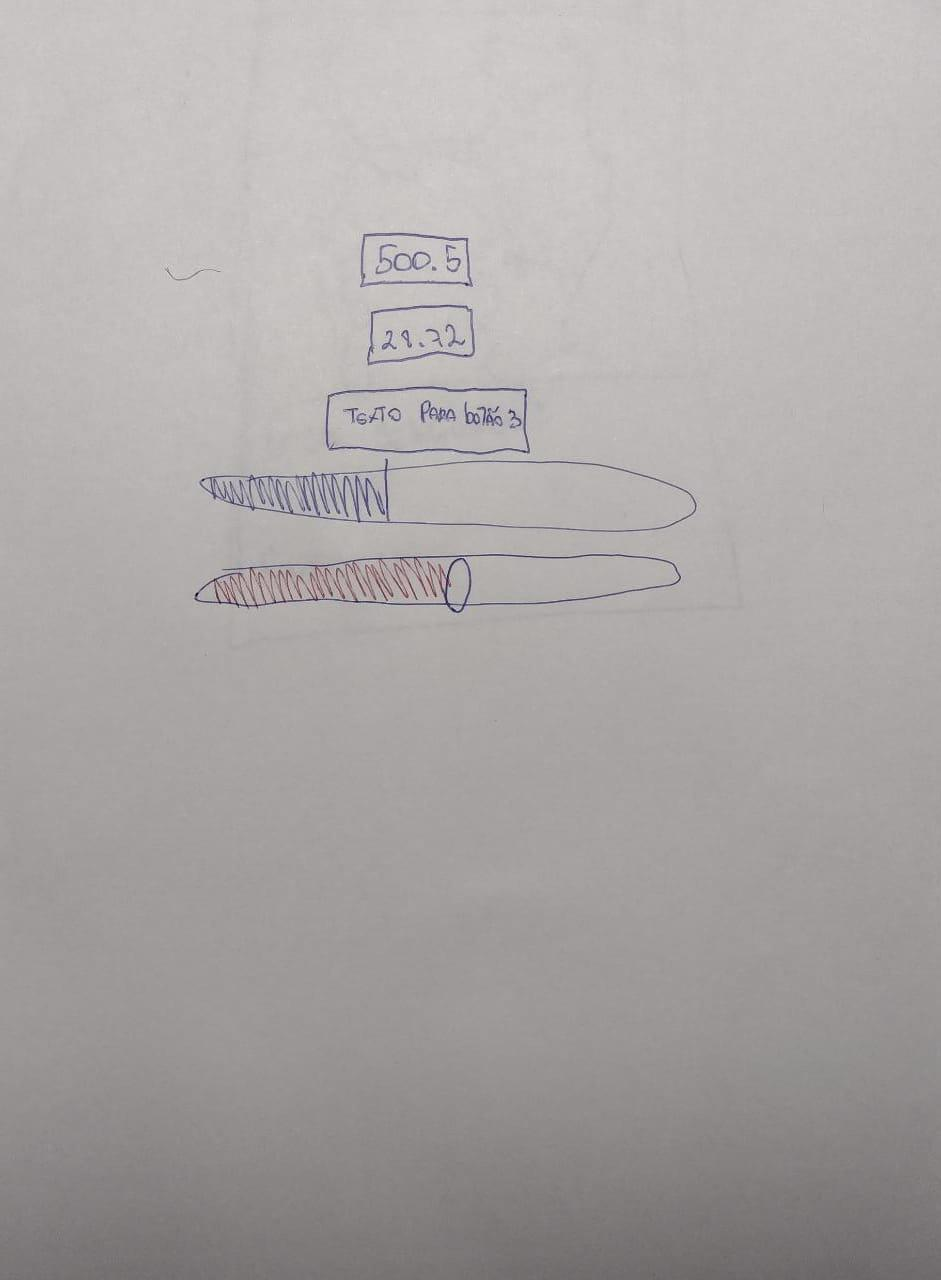Button: (325, 386, 530, 454), (368, 304, 474, 364), (360, 233, 472, 286)
Screen: (0, 0, 940, 1279)
Slider: (200, 460, 699, 531), (195, 554, 680, 611)
